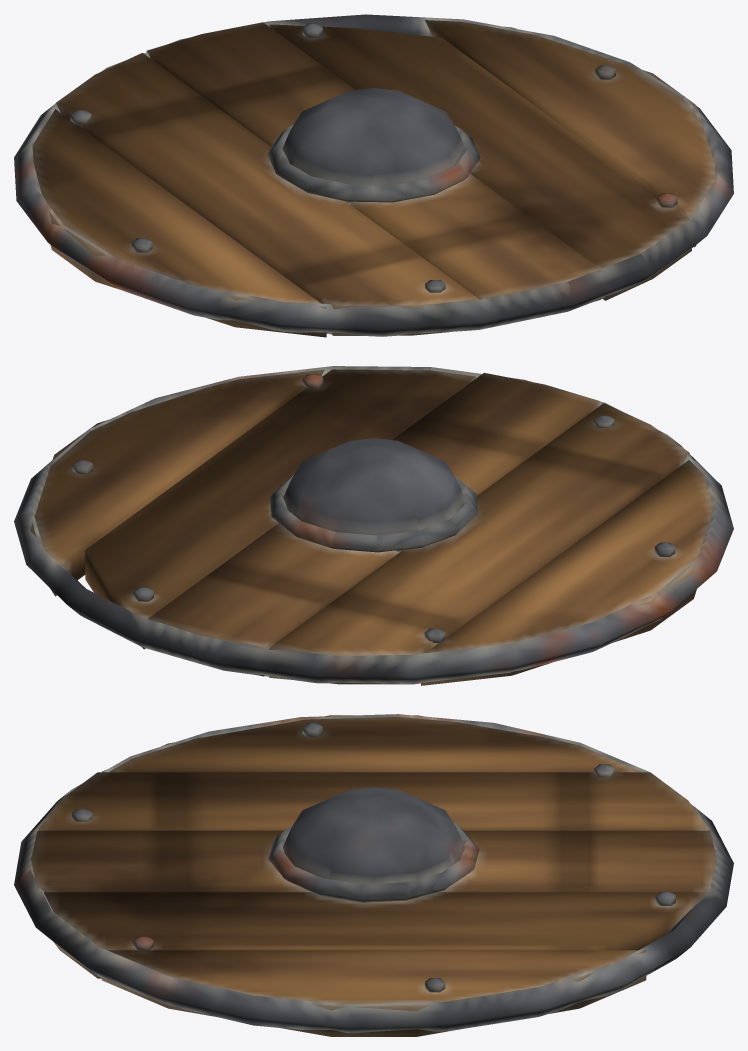
The model's file is Prop_Shield.fbx.
The picture shows the model from 3 angles, top to bottom: view 1: azimuth 30°, elevation 25°; view 2: azimuth 150°, elevation 25°; view 3: azimuth 270°, elevation 25°; orthographic projection.
Parts seen in each view (by area): view 1: Prop_Shield; view 2: Prop_Shield; view 3: Prop_Shield.
Boxes of the visible parts, bbox=[...] form: Prop_Shield: bbox=[14, 14, 733, 337]; Prop_Shield: bbox=[14, 366, 733, 685]; Prop_Shield: bbox=[14, 714, 733, 1036].
Size of the model in its own units: 0.393 by 0.068 by 0.393.
